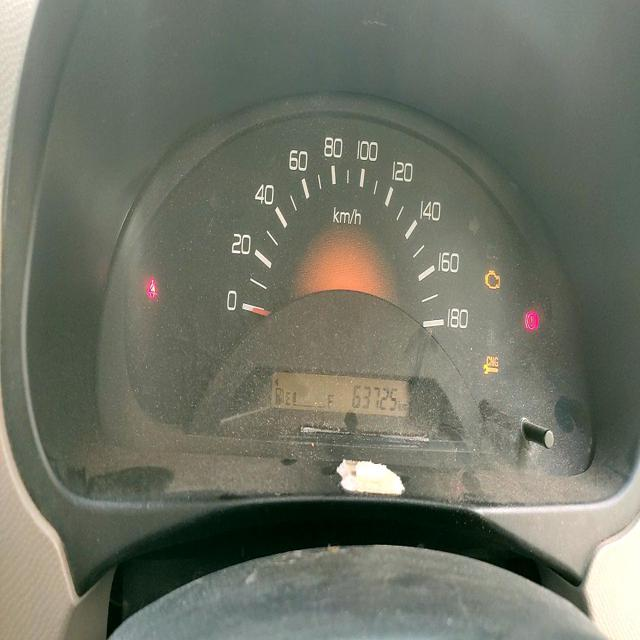odometer: (350, 380, 400, 415)
